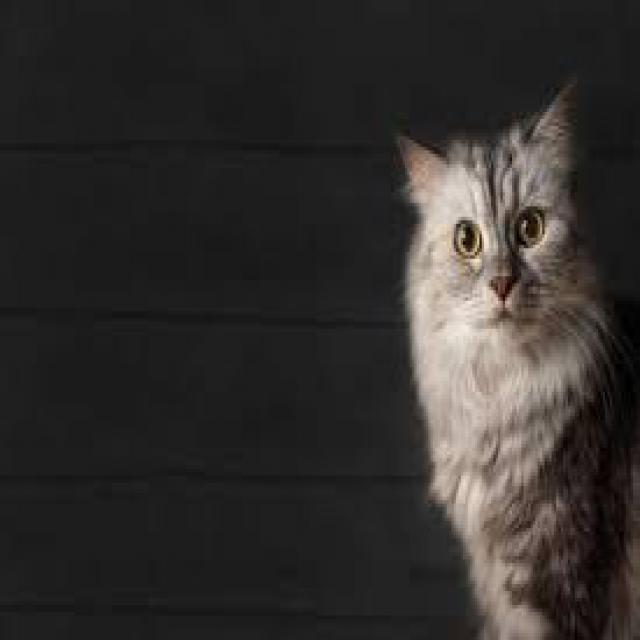Cat: (391, 63, 640, 640)
